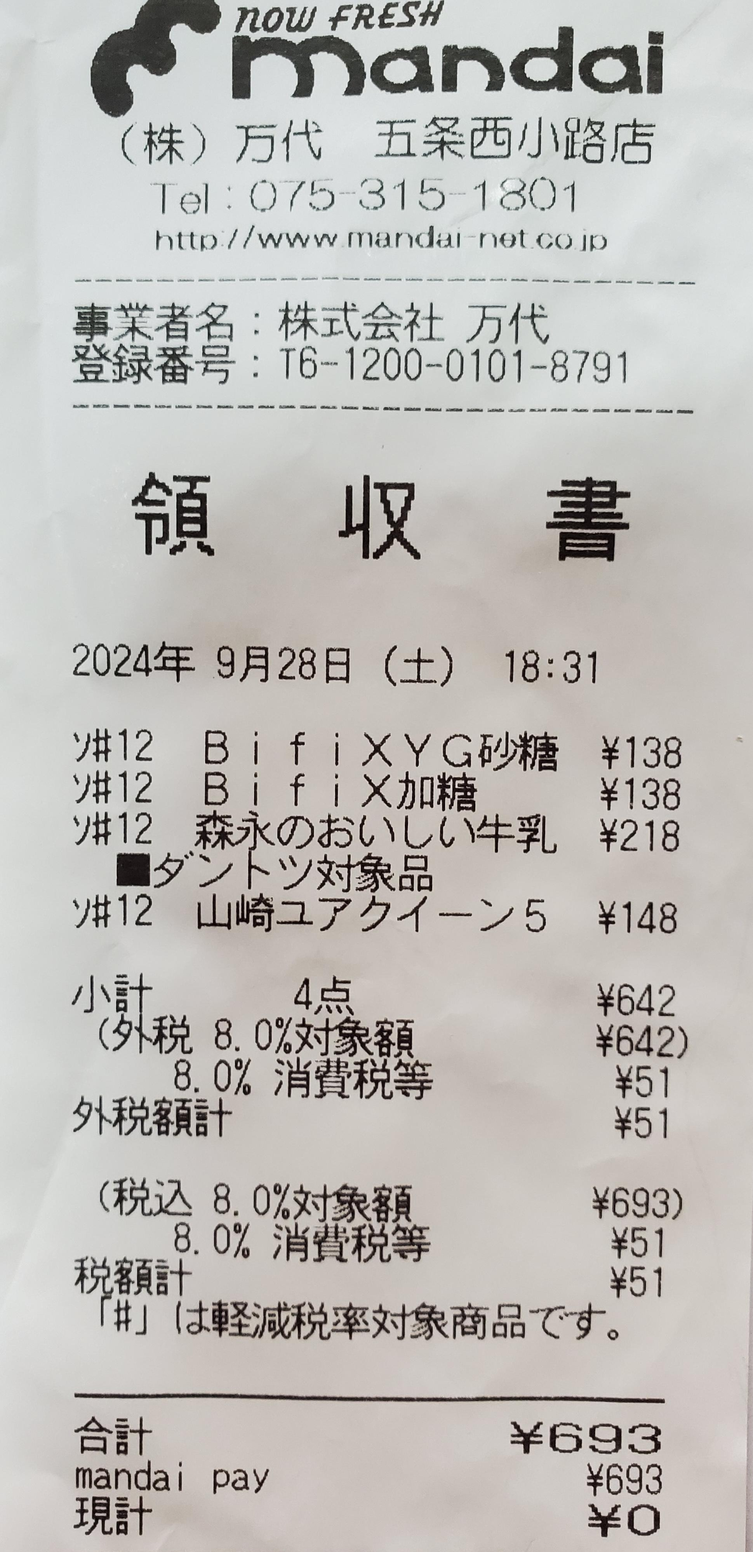TEL: (247, 169, 589, 223)
date: (66, 626, 357, 690)
total: (548, 1413, 673, 1460)
